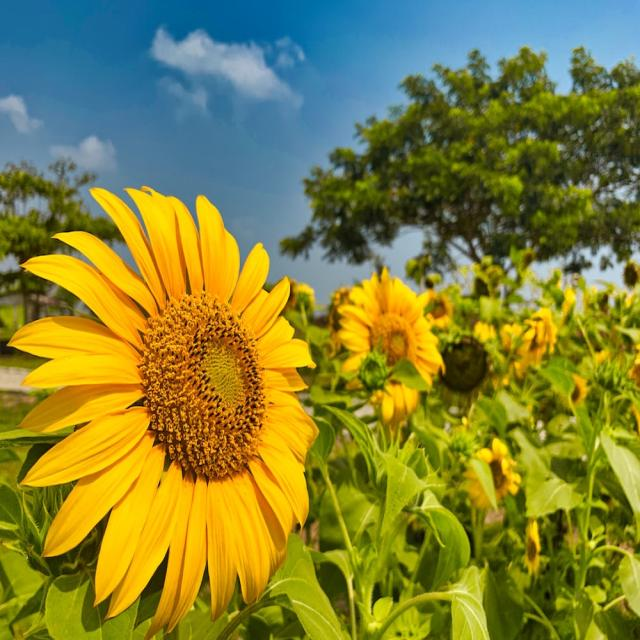sunflower: (0, 160, 325, 640), (332, 256, 450, 422), (462, 435, 526, 512), (518, 323, 556, 382), (522, 521, 549, 587), (529, 300, 559, 357), (422, 290, 454, 341), (566, 377, 592, 420), (621, 254, 640, 311), (627, 399, 640, 437)
